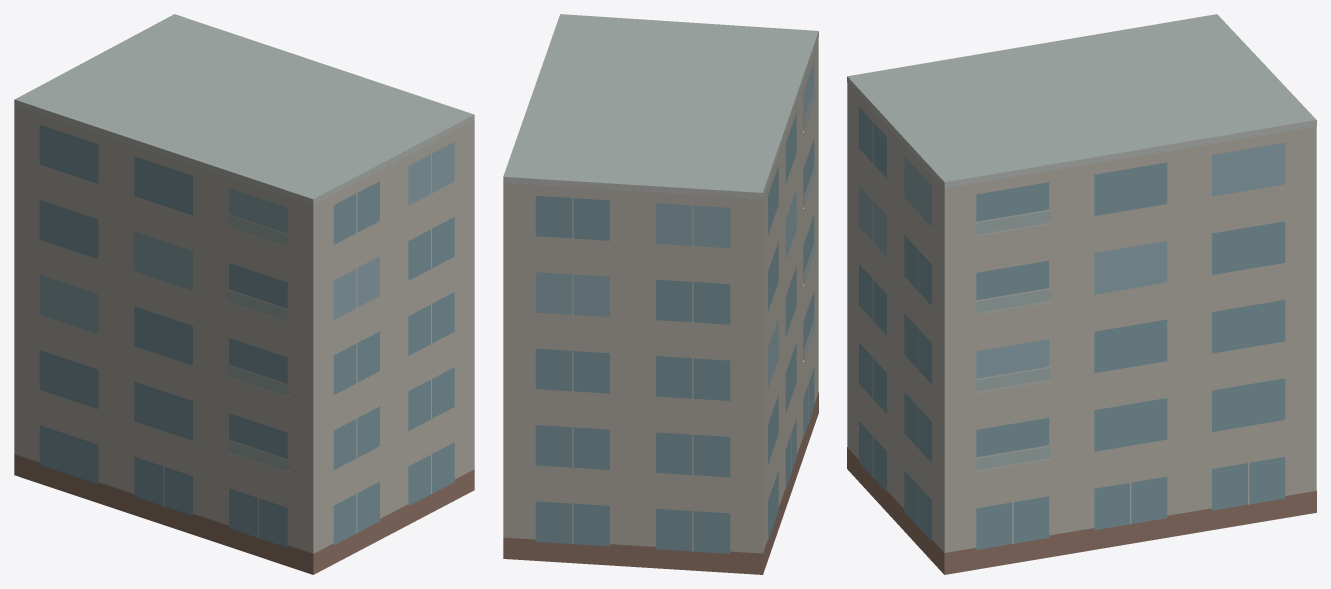
Rendered from survey-upis-32751076.glb.
The picture shows the model from 3 angles, left to right: view 1: azimuth 30°, elevation 25°; view 2: azimuth 150°, elevation 25°; view 3: azimuth 270°, elevation 25°; orthographic projection. The views are drawn at different scales.
Visible parts, largest first — view 1: survey-upis-32751076.tmp; view 2: survey-upis-32751076.tmp; view 3: survey-upis-32751076.tmp.
Part boxes in pixels (<box>): survey-upis-32751076.tmp: <box>14,14,474,574</box>; survey-upis-32751076.tmp: <box>503,14,818,574</box>; survey-upis-32751076.tmp: <box>847,14,1316,574</box>.
Size of the model in its own units: 14.02 by 15.25 by 16.54.
